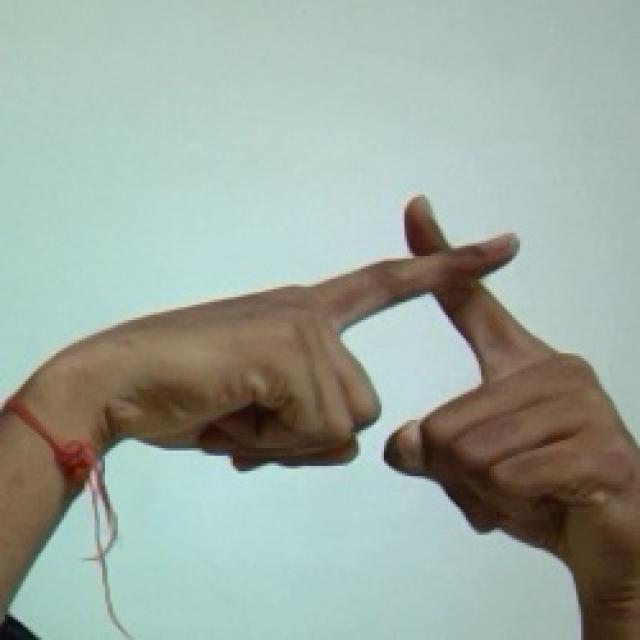Alphabet-X: (94, 174, 640, 563)
